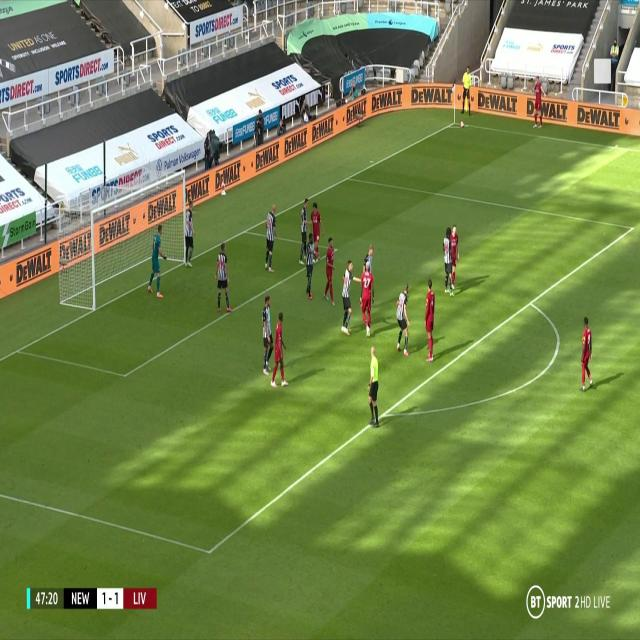ball: (459, 121, 465, 129)
player: (420, 277, 439, 365), (392, 280, 413, 356), (269, 310, 289, 389), (339, 256, 358, 336), (577, 315, 596, 394), (213, 240, 233, 315), (147, 226, 167, 300), (365, 344, 382, 430), (262, 201, 280, 274), (358, 260, 374, 340), (258, 294, 273, 374), (322, 235, 338, 305), (304, 233, 320, 300), (182, 200, 198, 266), (448, 222, 461, 296), (296, 198, 310, 262), (440, 227, 452, 294), (310, 202, 324, 258), (531, 78, 545, 129), (460, 63, 472, 120), (365, 240, 376, 268)
